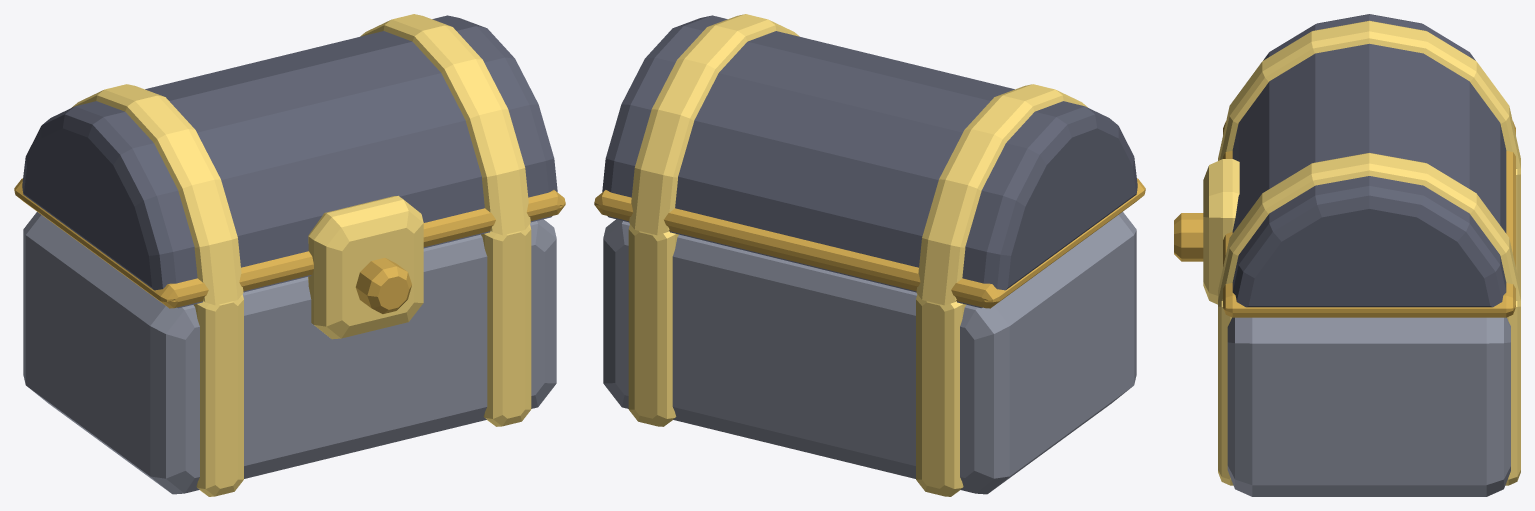
The model's file is game-ui-icon-library-chest-legendary-fbba121e__19004.glb.
3 views of the same model, side by side, from view 1: azimuth 30°, elevation 25°; view 2: azimuth 150°, elevation 25°; view 3: azimuth 270°, elevation 25° (orthographic). The views are drawn at different scales.
Parts seen in each view (by area): view 1: chest-legendary; view 2: chest-legendary; view 3: chest-legendary.
Part boxes in pixels (x1,y1,x2,y2): chest-legendary: (14,14,565,496); chest-legendary: (594,14,1145,496); chest-legendary: (1174,14,1520,496).
Bounding box in the file's own units: 0.98 × 0.7925 × 0.7731.
